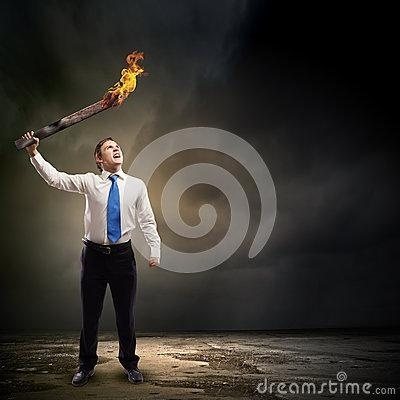fire: (103, 48, 147, 107)
